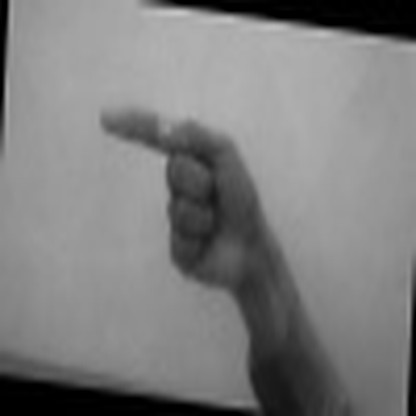g: (93, 101, 275, 286)
